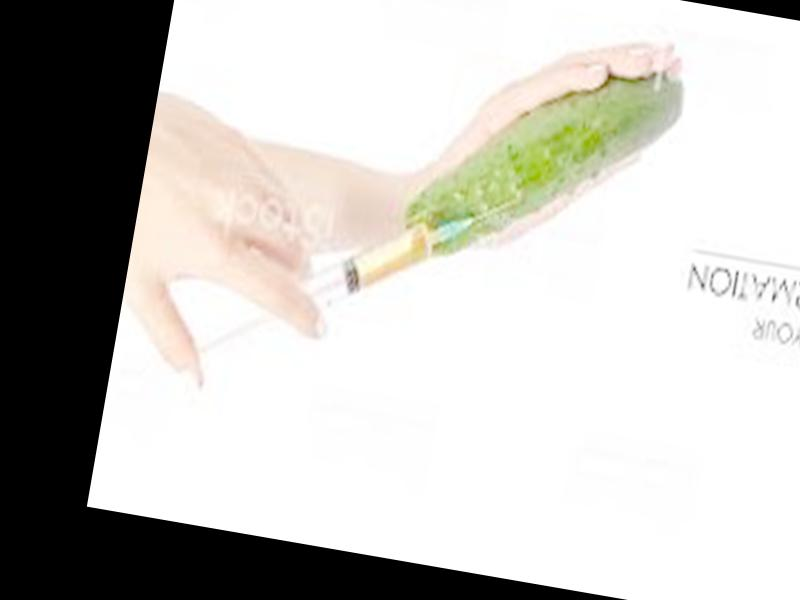Cucumber: (400, 37, 684, 298)
